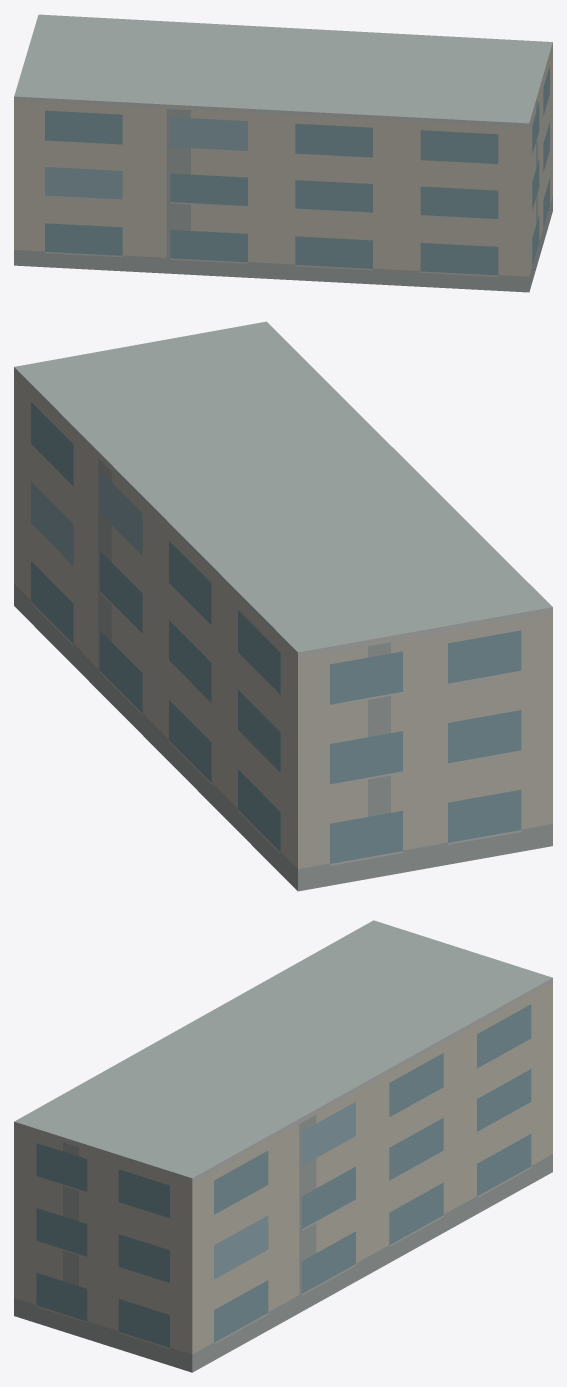
File: residential-70aba17d-ba39-43a2-8cd2-8159864d1bf7.glb
3 renders of one model, top to bottom at view 1: azimuth 30°, elevation 25°; view 2: azimuth 150°, elevation 25°; view 3: azimuth 270°, elevation 25°, orthographic. The views are drawn at different scales.
Parts seen in each view (by area): view 1: residential-70aba17d-ba39-43a2-8cd2-8159864d1bf7.tmp; view 2: residential-70aba17d-ba39-43a2-8cd2-8159864d1bf7.tmp; view 3: residential-70aba17d-ba39-43a2-8cd2-8159864d1bf7.tmp.
Part boxes in pixels (box(x1,y1,x2,y2)): residential-70aba17d-ba39-43a2-8cd2-8159864d1bf7.tmp: box(14, 14, 552, 292); residential-70aba17d-ba39-43a2-8cd2-8159864d1bf7.tmp: box(14, 321, 552, 891); residential-70aba17d-ba39-43a2-8cd2-8159864d1bf7.tmp: box(14, 920, 552, 1372).
Size of the model in its own units: 26.06 by 9.15 by 23.
